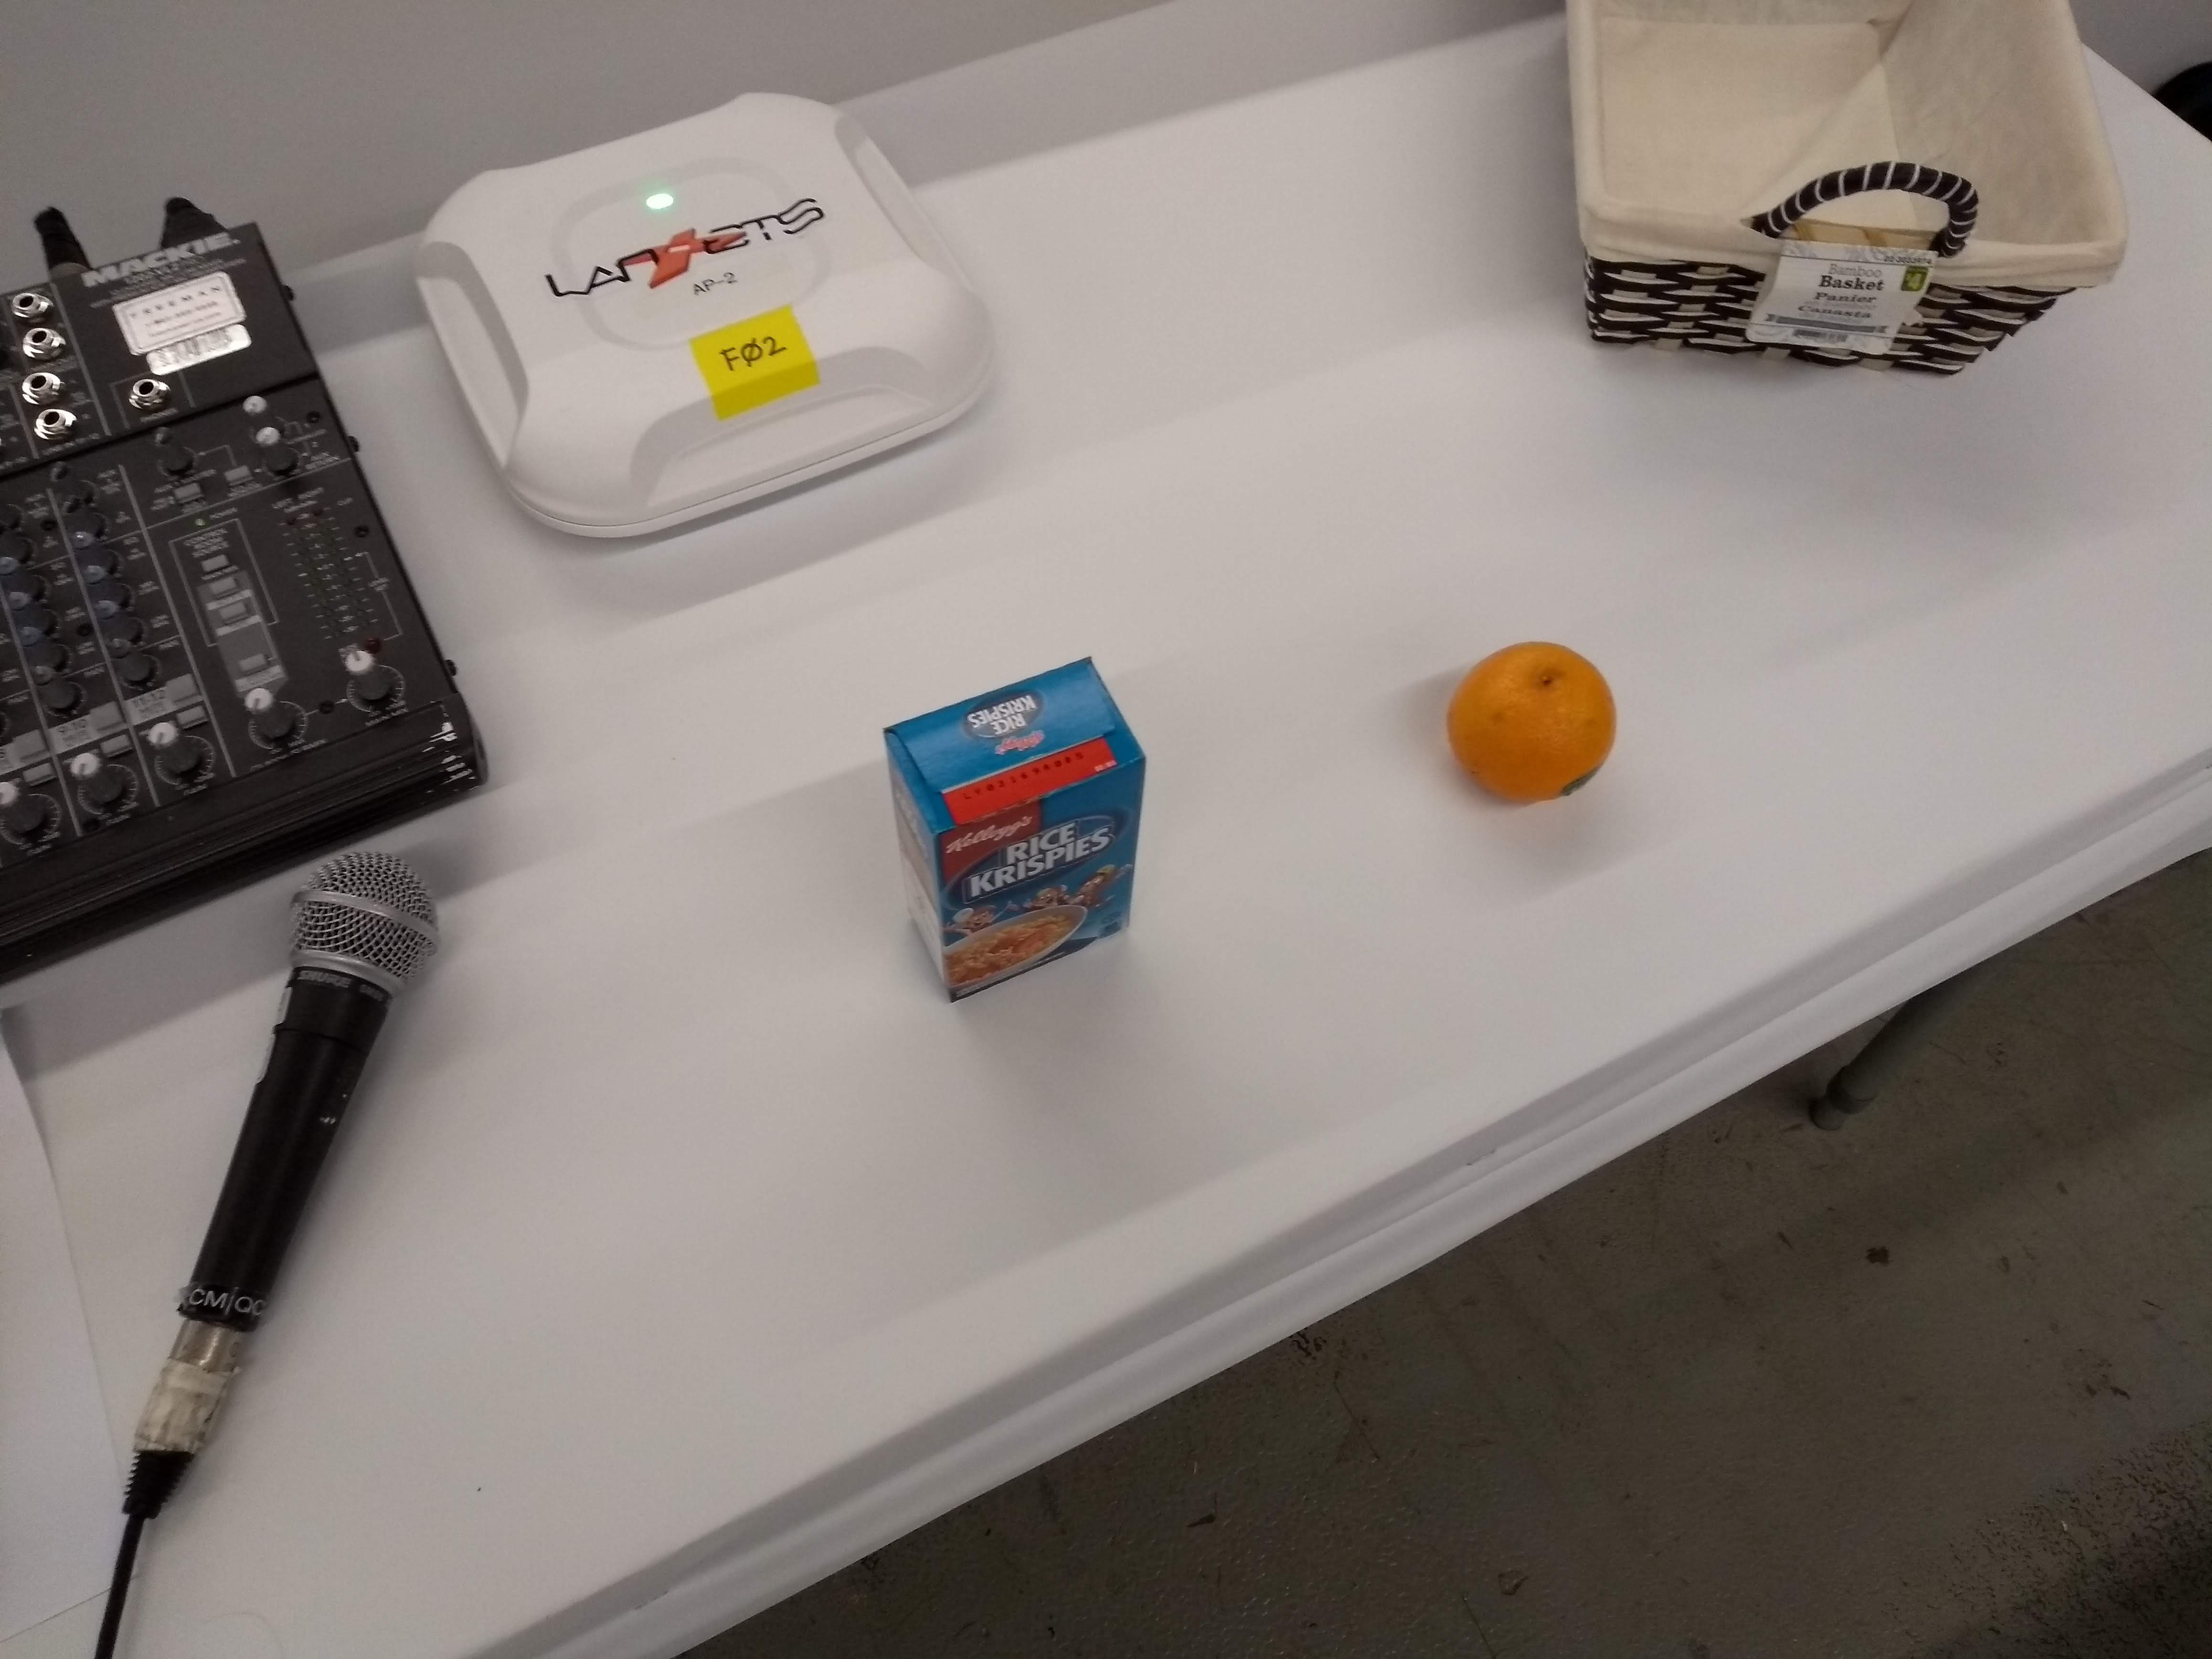cereal: (869, 645, 1158, 1014)
orange: (1437, 626, 1629, 821)
